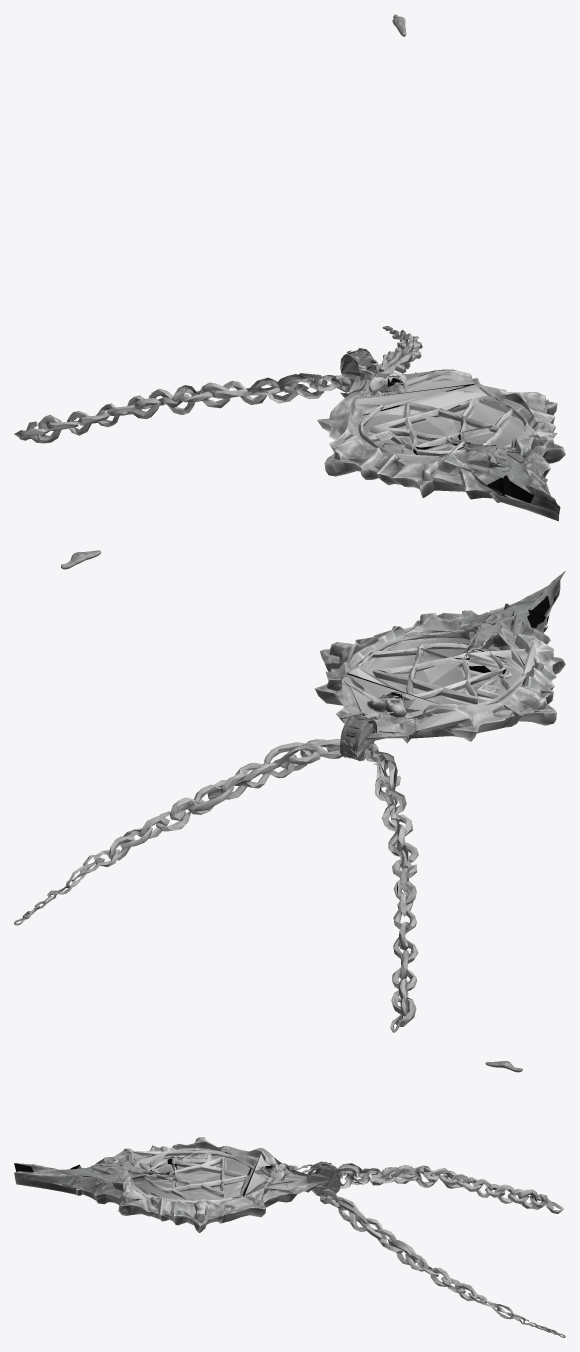
Rendered from medallion_necklace_LOD0.glb.
3 renders of one model, top to bottom at view 1: azimuth 30°, elevation 25°; view 2: azimuth 150°, elevation 25°; view 3: azimuth 270°, elevation 25°, orthographic. The views are drawn at different scales.
Parts seen in each view (by area): view 1: medallion_necklace_LOD0; view 2: medallion_necklace_LOD0; view 3: medallion_necklace_LOD0.
Part boxes in pixels (x1,y1,x2,y2): medallion_necklace_LOD0: [14, 14, 565, 521]; medallion_necklace_LOD0: [14, 550, 565, 1032]; medallion_necklace_LOD0: [14, 1061, 565, 1337].
Size of the model in its own units: 0.5644 by 0.5133 by 0.9109.
1 material, 1 textured.
